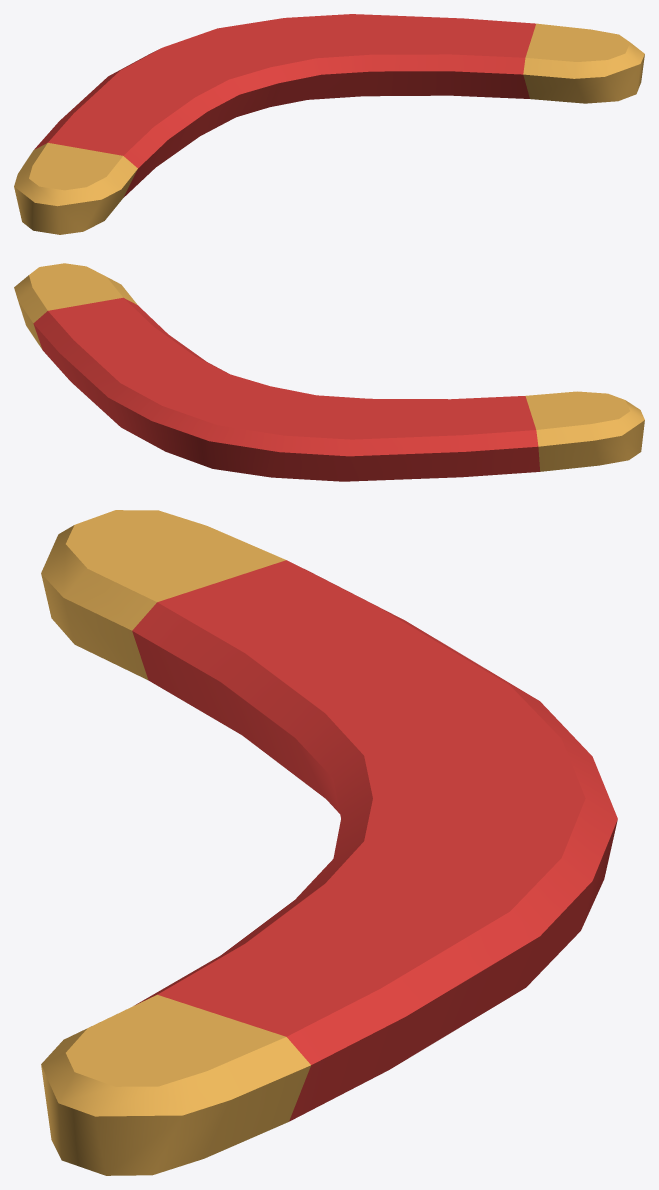
The model's file is Boomerang_01.fbx.
3 renders of one model, top to bottom at view 1: azimuth 30°, elevation 25°; view 2: azimuth 150°, elevation 25°; view 3: azimuth 270°, elevation 25°, orthographic. The views are drawn at different scales.
Parts seen in each view (by area): view 1: Boomerang_01; view 2: Boomerang_01; view 3: Boomerang_01.
Boxes of the visible parts, x1,y1,x2,y2 form: Boomerang_01: [14, 14, 644, 234]; Boomerang_01: [14, 263, 644, 481]; Boomerang_01: [41, 510, 617, 1175].
Bounding box in the file's own units: 0.3925 × 0.0248 × 0.1607.
